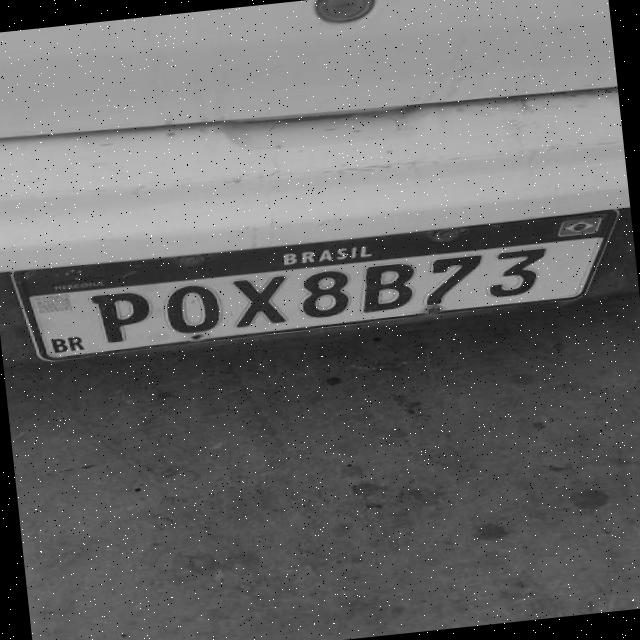placa_mercosul: (12, 209, 620, 359)
